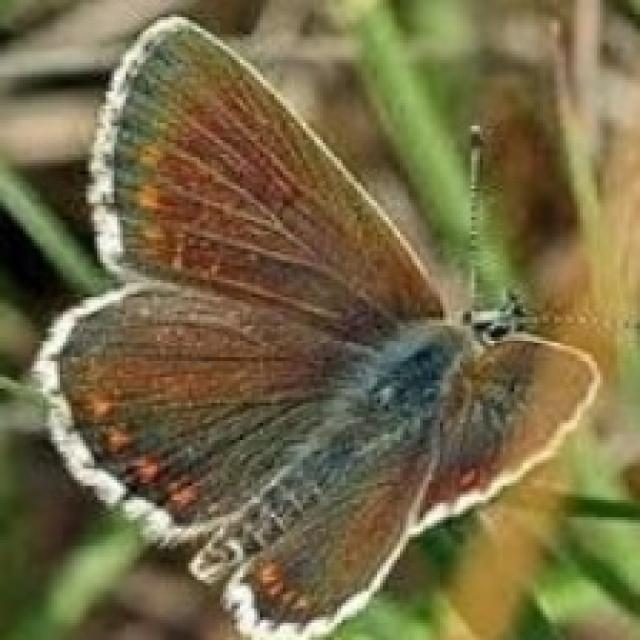butterfly: (46, 12, 603, 637)
